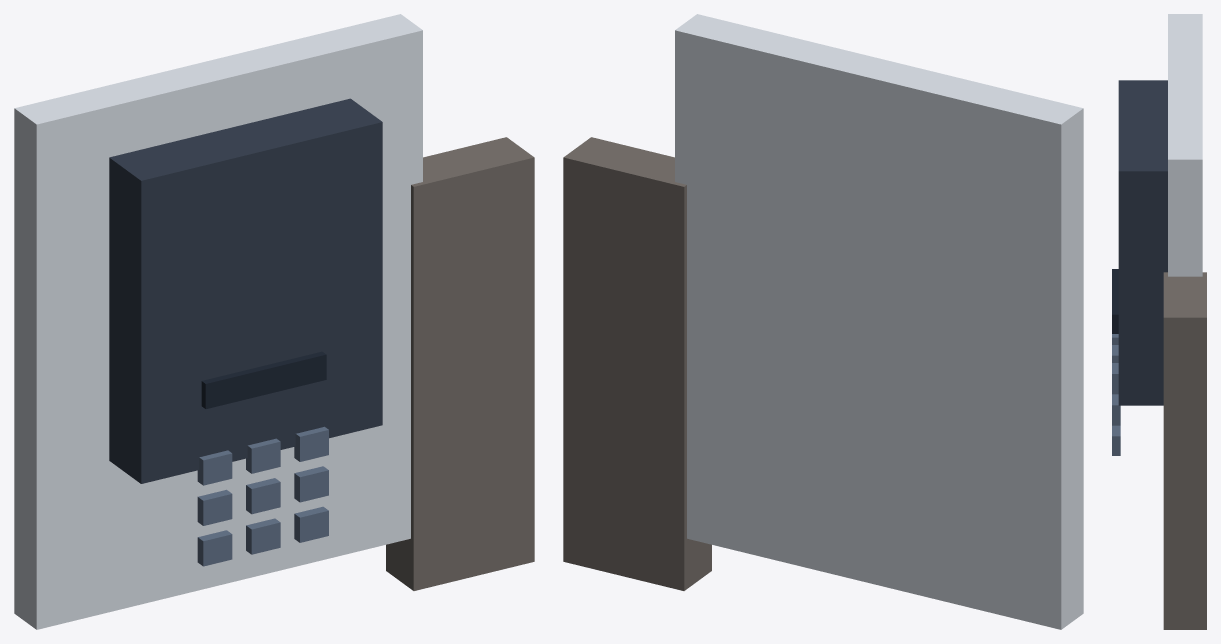
File: yard-access-node-body-authored-atlas.glb
3 renders of one model, left to right at view 1: azimuth 30°, elevation 25°; view 2: azimuth 150°, elevation 25°; view 3: azimuth 270°, elevation 25°, orthographic. The views are drawn at different scales.
Parts seen in each view (by area): view 1: Authored surface.077; view 2: Authored surface.077; view 3: Authored surface.077.
Boxes of the visible parts, x1=… form: Authored surface.077: x1=14, y1=14, x2=534, y2=629; Authored surface.077: x1=563, y1=14, x2=1083, y2=629; Authored surface.077: x1=1112, y1=14, x2=1206, y2=629.
Bounding box in the file's own units: 1.03 × 1.1 × 0.22.
1 material, 1 textured.
